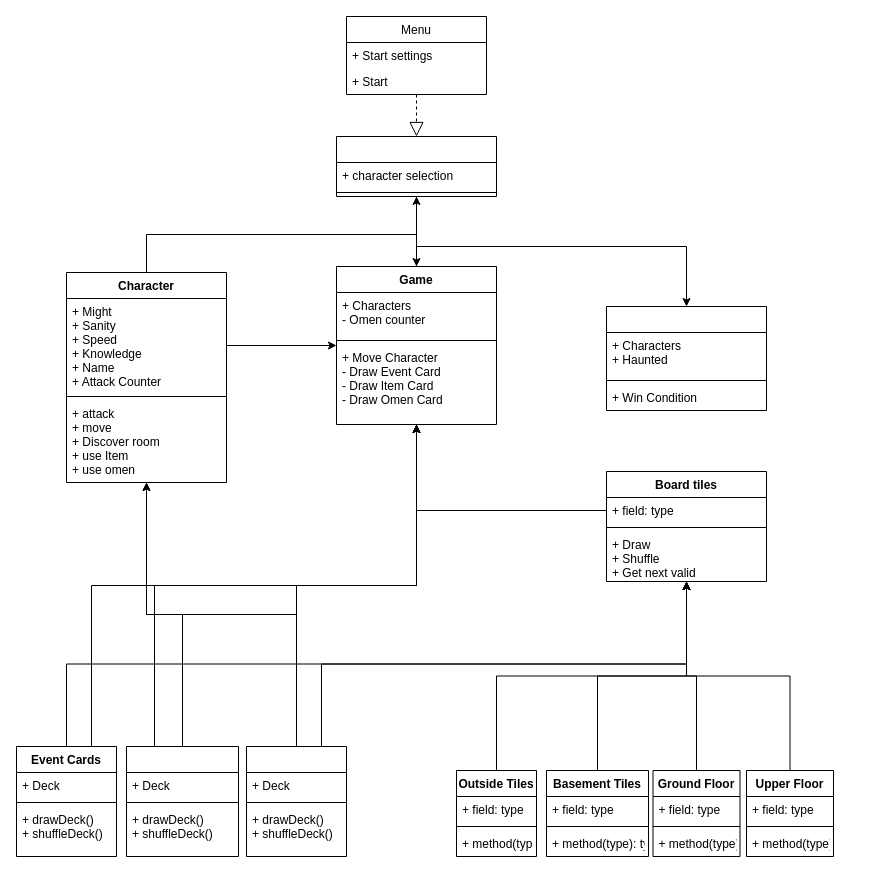
Image size: 879x873. Some labels were removed from this diagram. The shapes that lost their labels are listed below. From the top down, each one's box as (x1, y1, x2, y2) in pixels, then its label:
(336, 136, 496, 196): Setup
(606, 306, 766, 410): Start Haunt
(126, 746, 238, 856): Item Cards
(246, 746, 346, 856): Omen Cards
